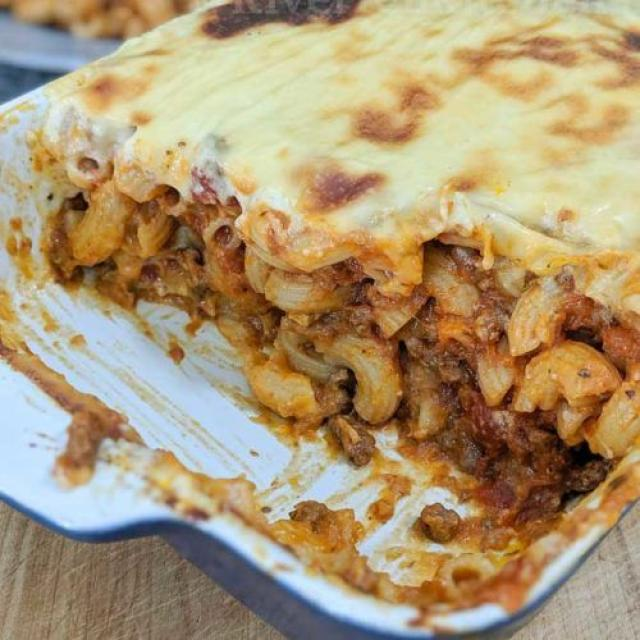Bechamel: (0, 2, 640, 606)
